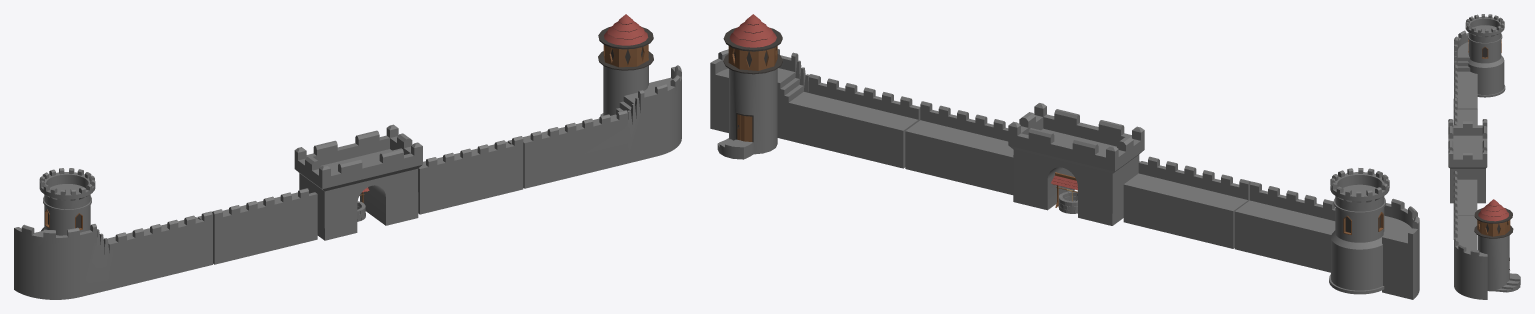
The model's file is WALL_F.glb.
The picture shows the model from 3 angles, left to right: view 1: azimuth 30°, elevation 25°; view 2: azimuth 150°, elevation 25°; view 3: azimuth 270°, elevation 25°; orthographic projection. The views are drawn at different scales.
Visible parts, largest first — view 1: Wall_front; view 2: Wall_front; view 3: Wall_front.
Part boxes in pixels (<box>): Wall_front: <box>14,14,681,299</box>; Wall_front: <box>710,14,1419,299</box>; Wall_front: <box>1448,14,1520,299</box>.
Bounding box in the file's own units: 54.09 × 9.59 × 7.28.
